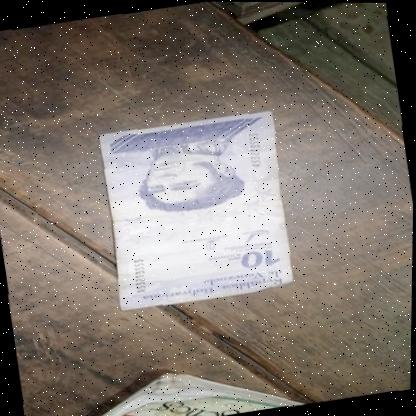ten-front-vef: (93, 107, 300, 312)
